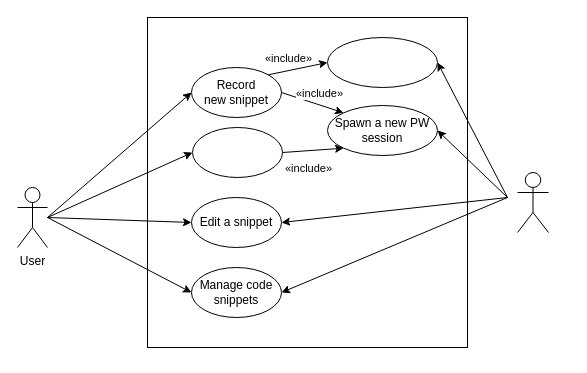
This 587x373 diagram has some shape labels left out. Each missing label, with the centre of its shape:
"Generate PW code" belongs at (x=382, y=62).
"PWww server" belongs at (x=532, y=202).
"Run code snippet" belongs at (x=237, y=152).
